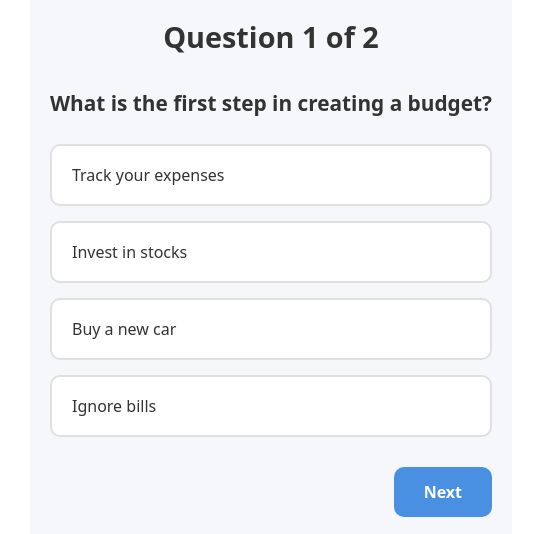
Quiz › navigates between questions using Next button
The width and height of the screenshot is (543, 534).
Find Next button
Click the button "Next" at (443, 492), box x1=394 y1=467 x2=492 y2=517
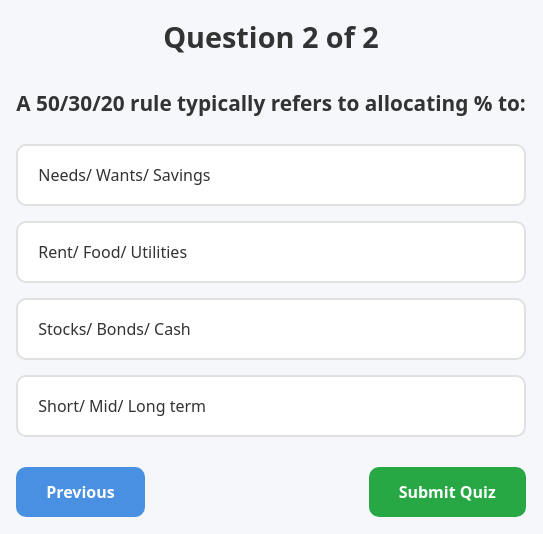
Check: the heading "Question 2 of 2" is shown, box x1=163 y1=17 x2=379 y2=56
